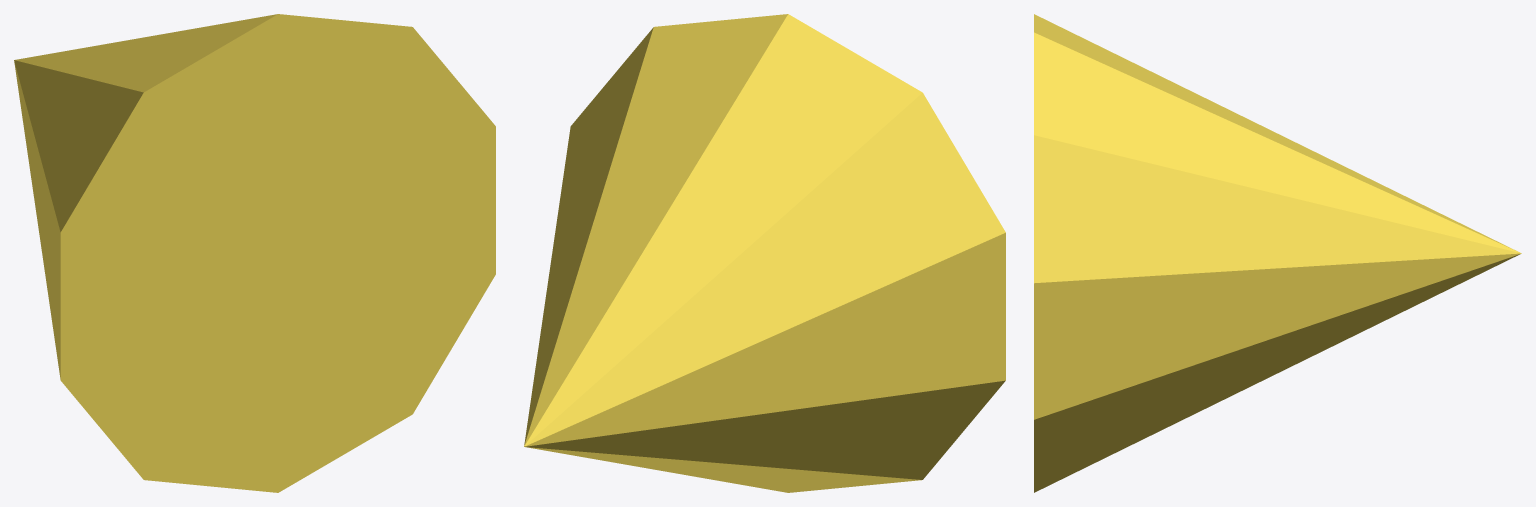
The model's file is super-horn.glb.
The picture shows the model from 3 angles, left to right: view 1: azimuth 30°, elevation 25°; view 2: azimuth 150°, elevation 25°; view 3: azimuth 270°, elevation 25°; orthographic projection. The views are drawn at different scales.
Visible parts, largest first — view 1: item; view 2: item; view 3: item.
Boxes of the visible parts, x1=… form: item: x1=14, y1=14, x2=495, y2=492; item: x1=524, y1=14, x2=1005, y2=492; item: x1=1034, y1=14, x2=1521, y2=492.
Bounding box in the file's own units: 1.52 × 1.6 × 1.6.
